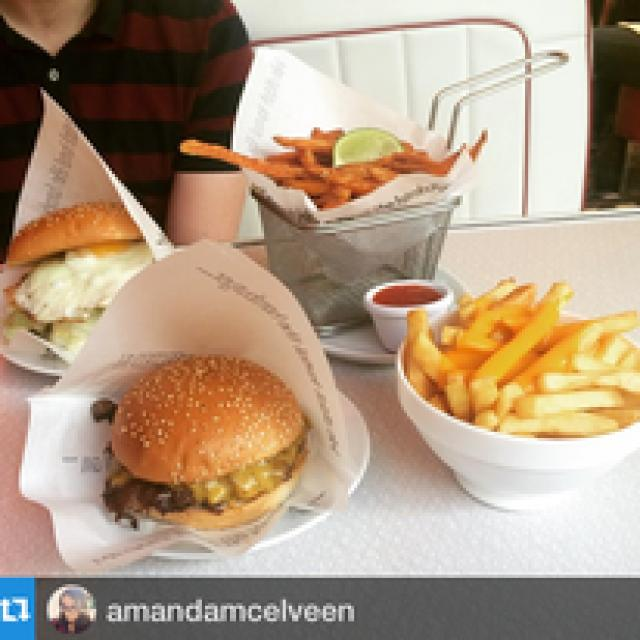Burger: (3, 165, 311, 534)
French Fries: (398, 267, 637, 454)
